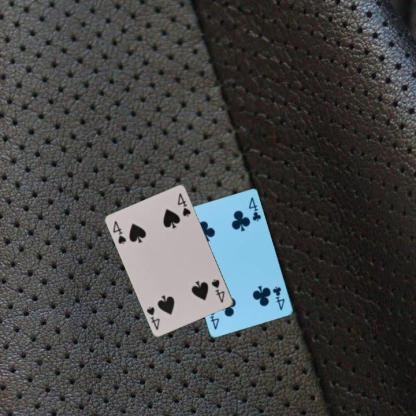4c: (270, 284, 286, 311)
4s: (110, 218, 128, 246), (209, 277, 226, 304)
